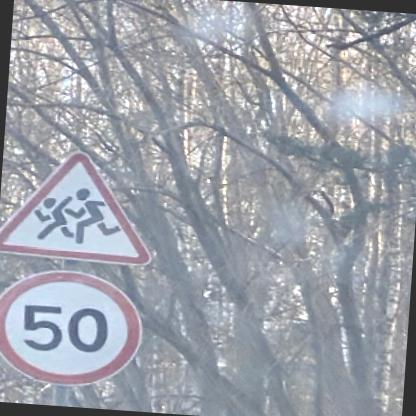speedlimit: (0, 264, 145, 391)
